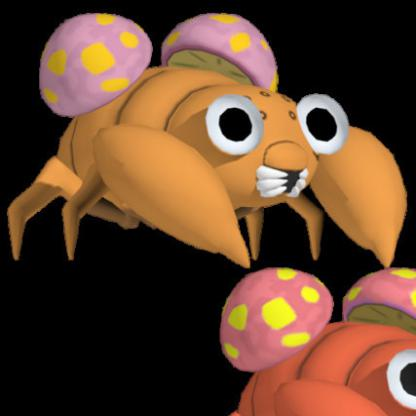Paras: (18, 2, 416, 277)
